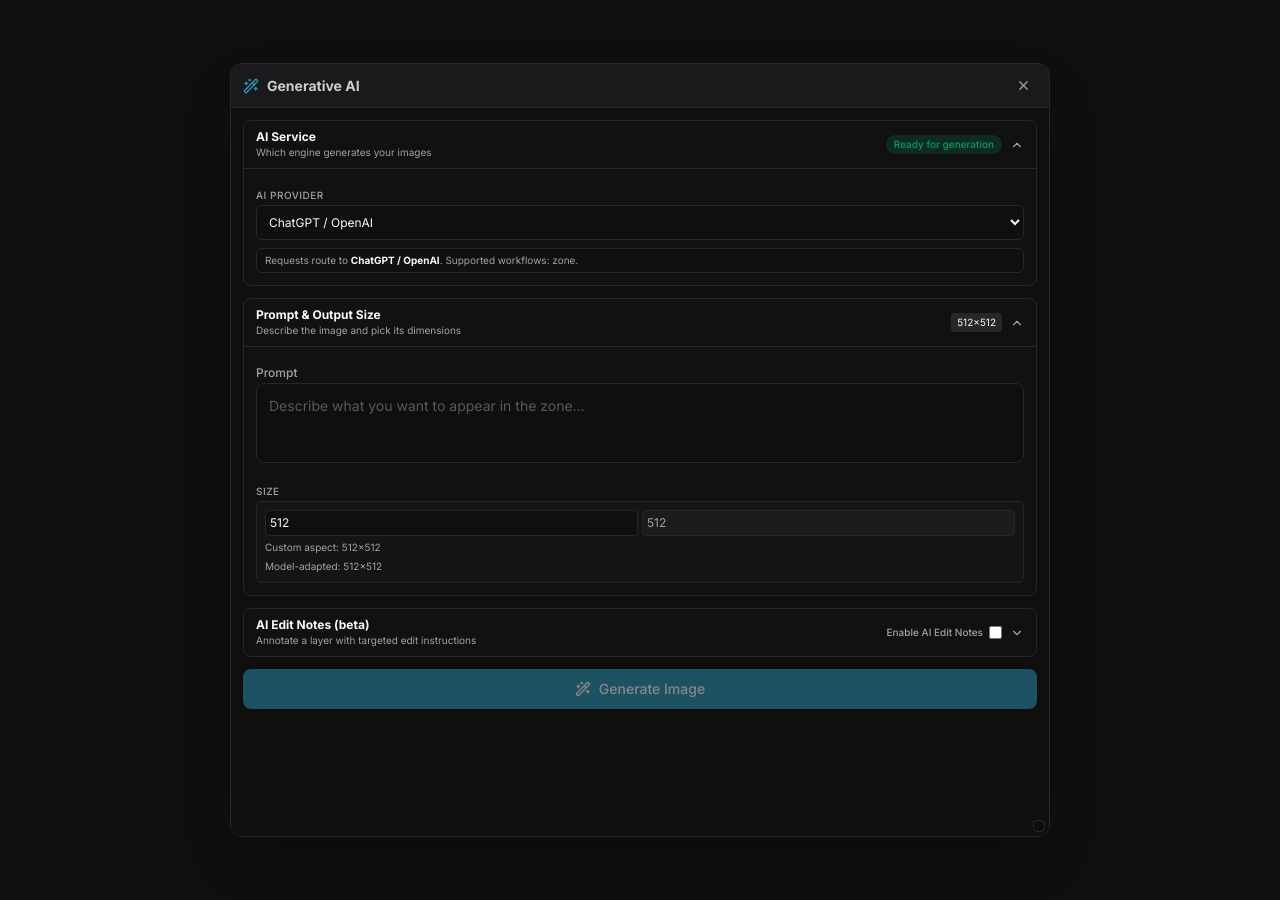
Test case: ImageGeneratorModal › generates image via remote provider and shows preview
Type "A robot in watercolor" into the text box with placeholder "Describe what you want to appear in the zone…" at (640, 423), box x1=256 y1=383 x2=1024 y2=463
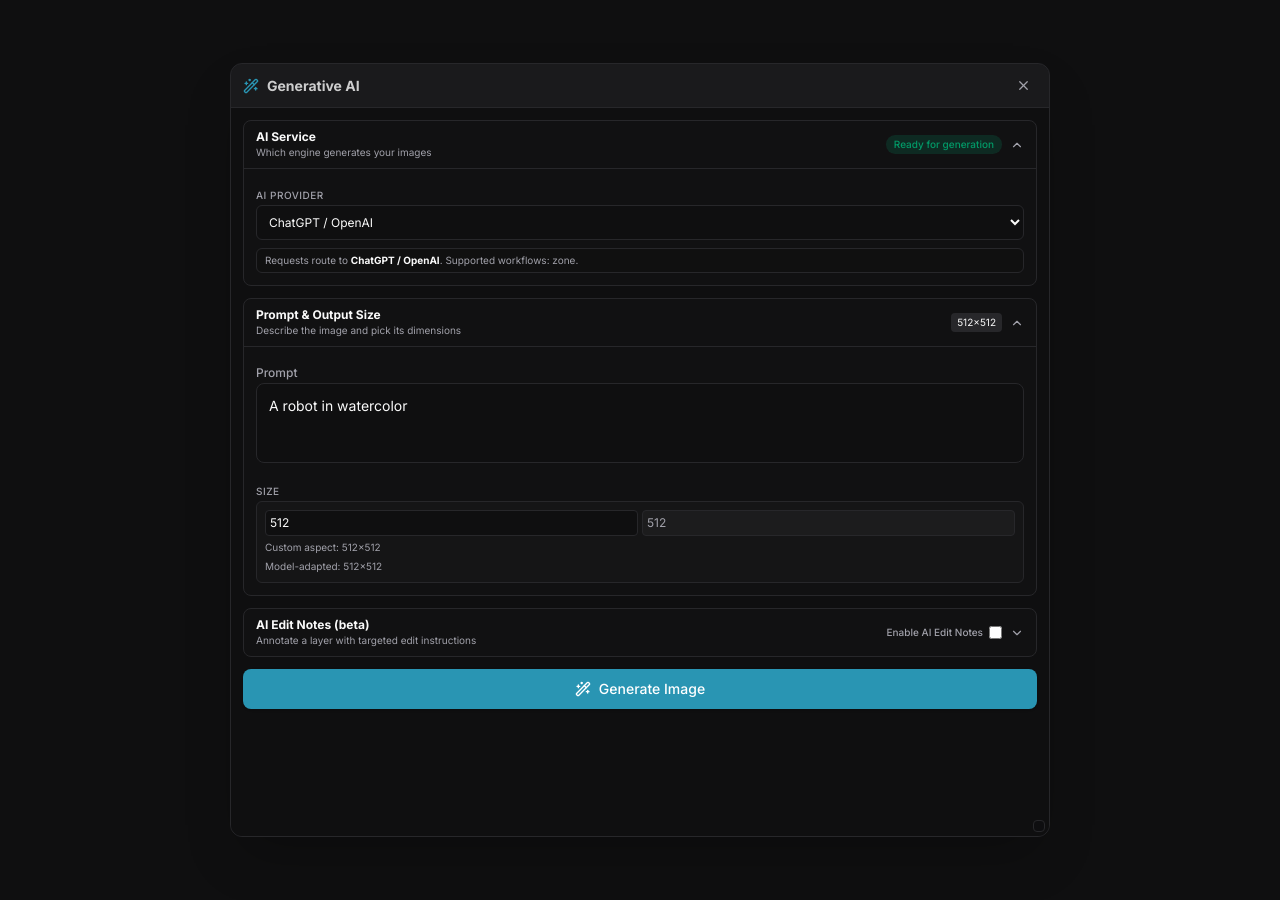
Click the button "Generate Image" at (640, 689), box x1=243 y1=669 x2=1037 y2=709
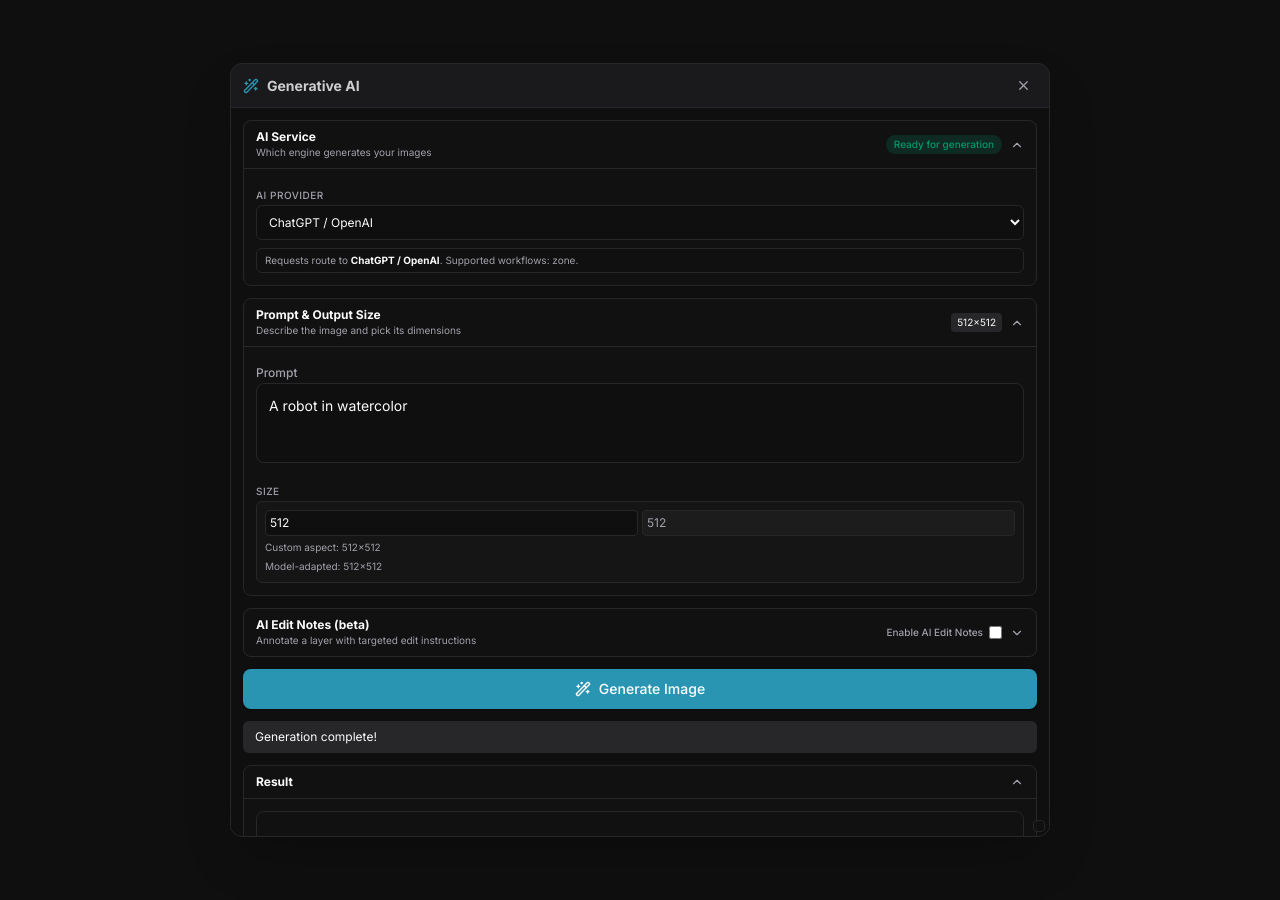
Result: the text "Generation complete!" is shown at x1=255 y1=729 x2=377 y2=745
